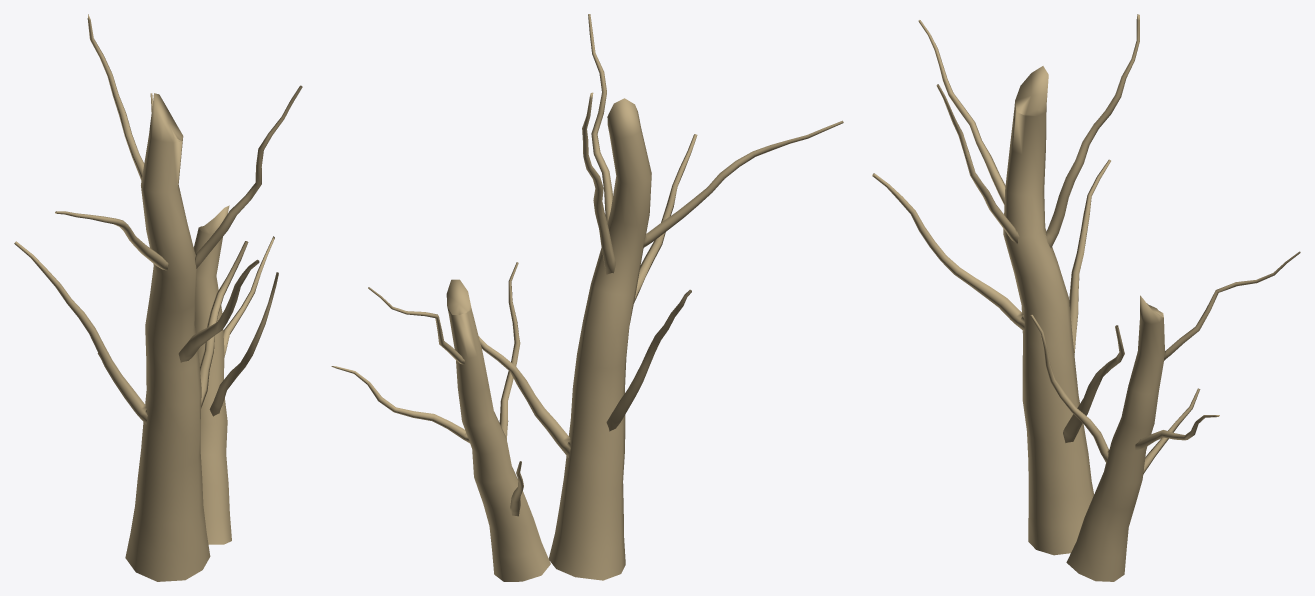
File: Lava_Wood_03.FBX
3 renders of one model, left to right at view 1: azimuth 30°, elevation 25°; view 2: azimuth 150°, elevation 25°; view 3: azimuth 270°, elevation 25°, orthographic. The views are drawn at different scales.
Parts seen in each view (by area): view 1: Lava_Wood_03; view 2: Lava_Wood_03; view 3: Lava_Wood_03.
Part boxes in pixels (x1,y1,x2,y2): Lava_Wood_03: [14, 14, 302, 581]; Lava_Wood_03: [331, 14, 843, 581]; Lava_Wood_03: [872, 14, 1300, 581].
Size of the model in its own units: 132 by 180 by 136.
